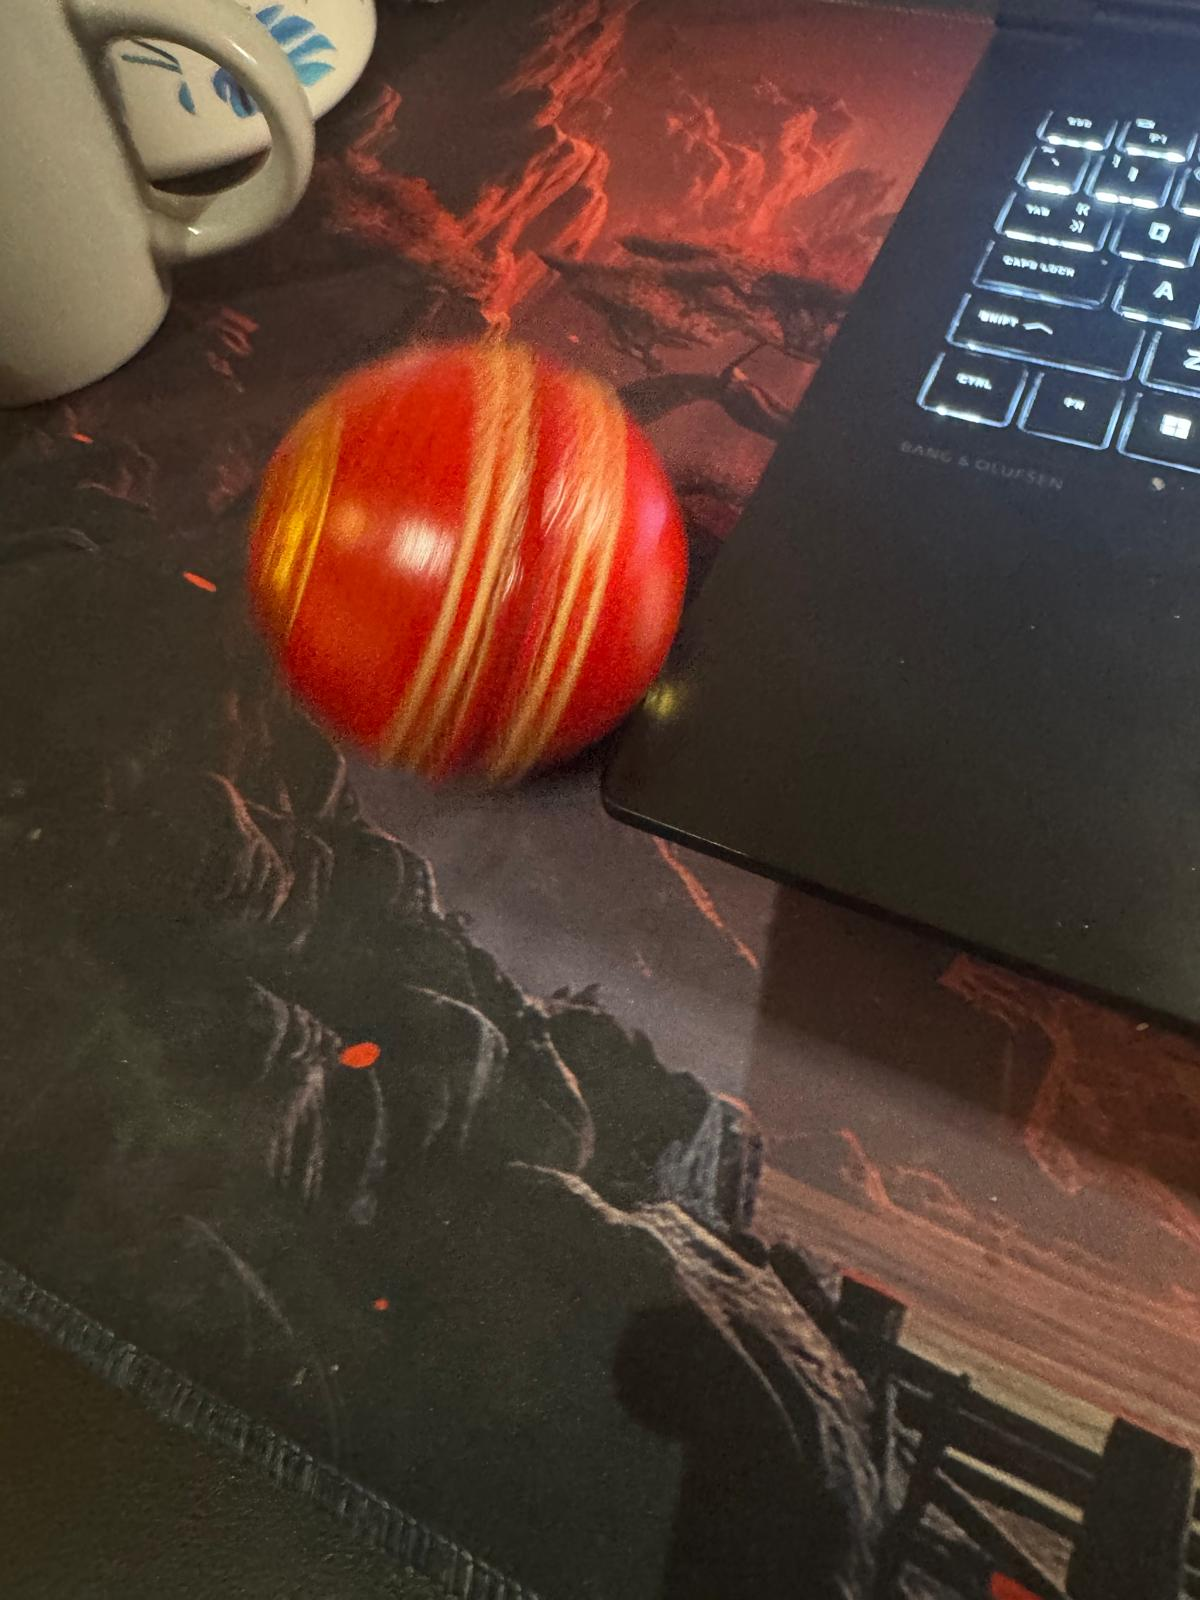Red_Ball: (242, 341, 698, 824)
